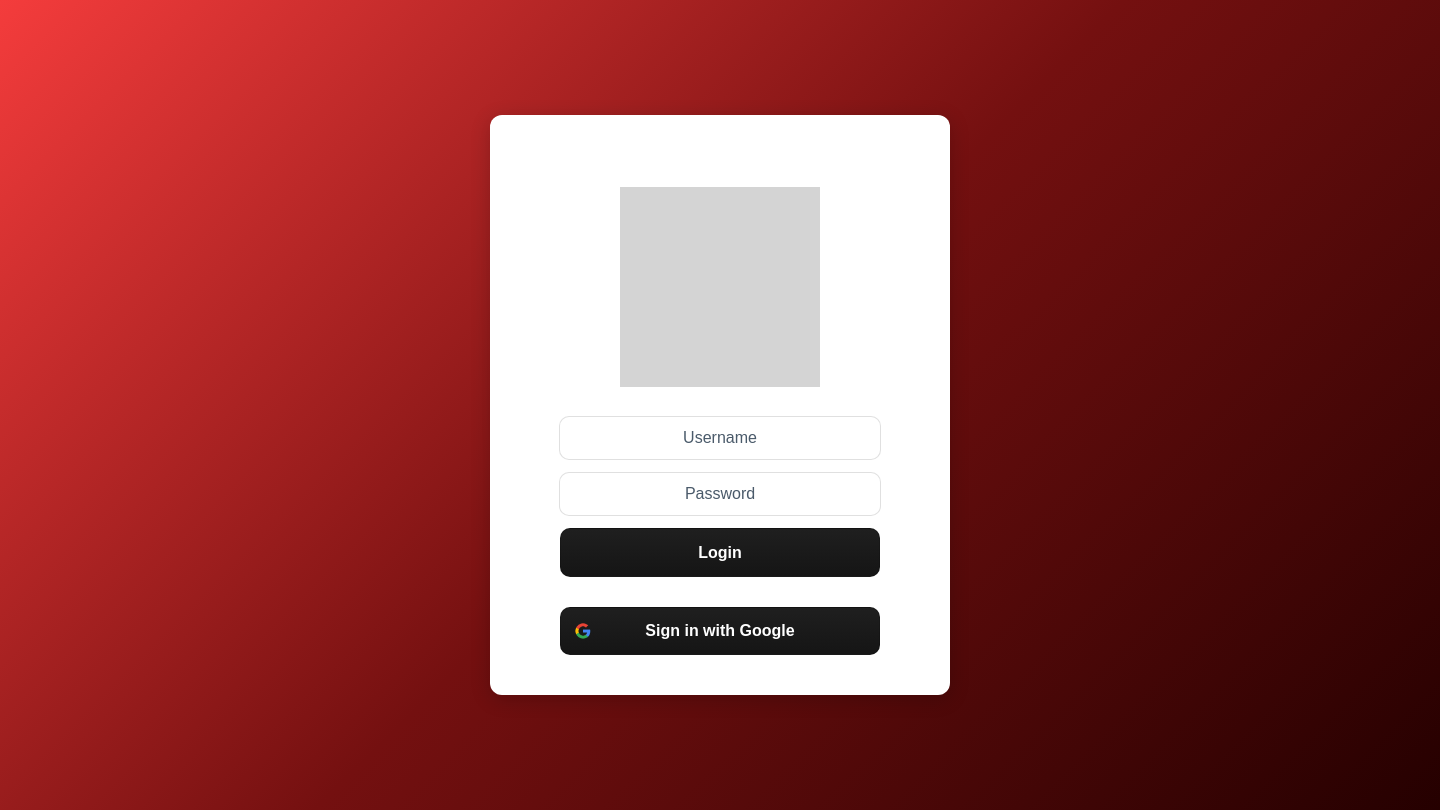
Test: Login view › shows error message when submitting empty credentials
Click the button "Login": (720, 553) [560,528,880,577]
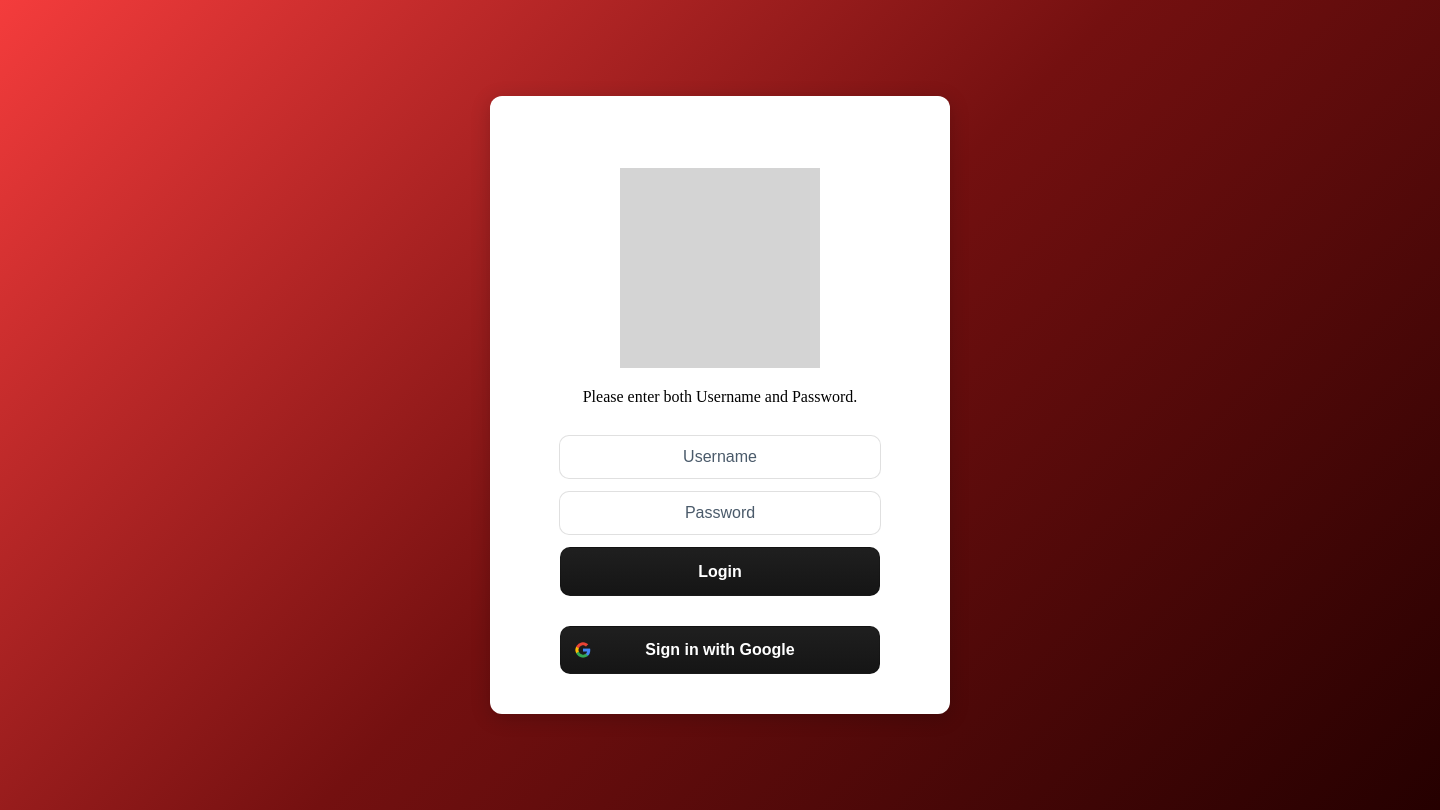
Check: the text "Please enter both Username and Password." is shown, box [583,388,857,406]
